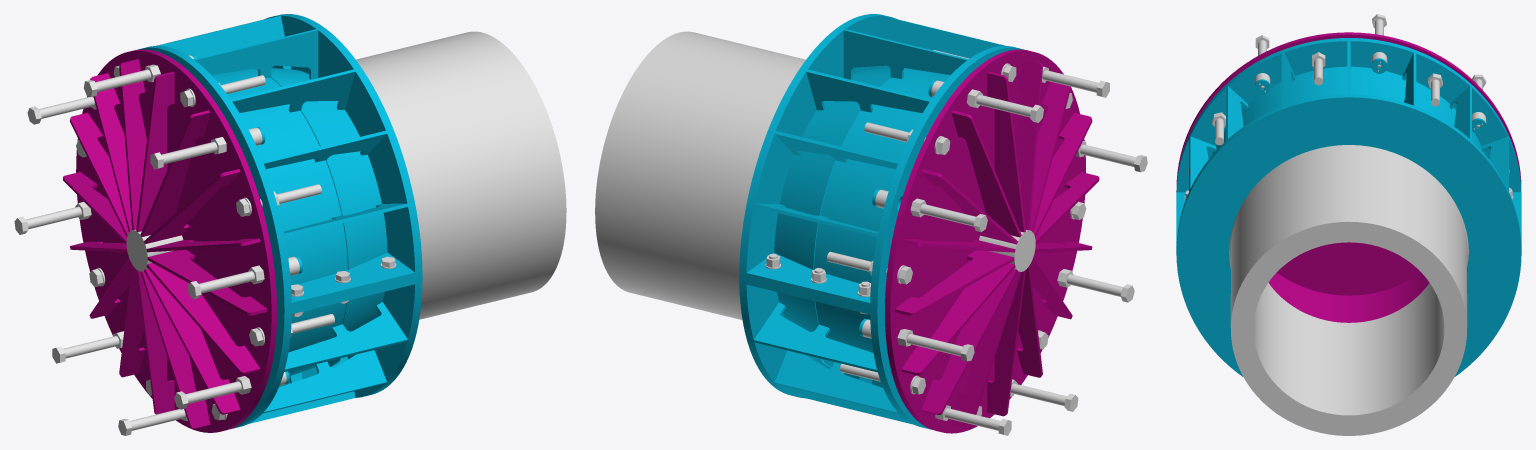
The model's file is EntwurfARBrille.glb.
3 renders of one model, left to right at view 1: azimuth 30°, elevation 25°; view 2: azimuth 150°, elevation 25°; view 3: azimuth 270°, elevation 25°, orthographic. The views are drawn at different scales.
Parts seen in each view (by area): view 1: Form 1 (×35), Shape 2 (×11), Shape 1; view 2: Form 1 (×35), Shape 2 (×11), Shape 1; view 3: Form 1 (×13).
Part boxes in pixels (x1,y1,x2,y2): Form 1 (×35): [63, 14, 566, 432]; Shape 2 (×11): [14, 69, 334, 435]; Shape 1: [126, 229, 183, 271]; Form 1 (×35): [595, 14, 1099, 433]; Shape 2 (×11): [827, 70, 1147, 435]; Shape 1: [979, 230, 1035, 271]; Form 1 (×13): [1176, 32, 1521, 435].
Bounding box in the file's own units: 1.07 × 0.92 × 0.92.
